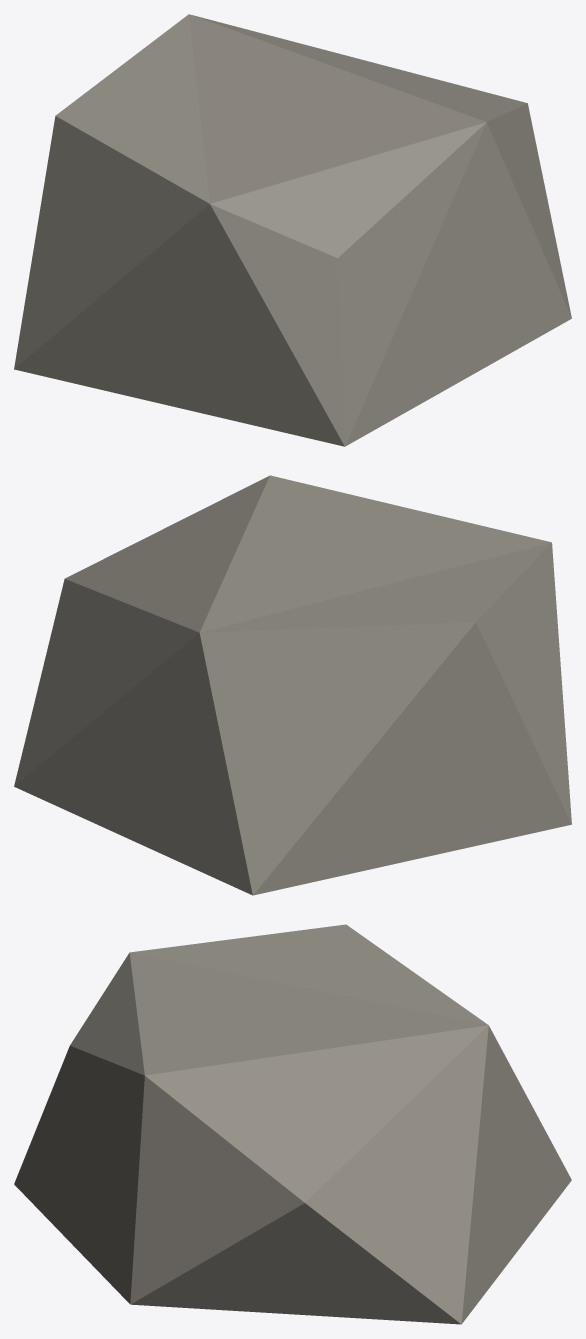
Rendered from Rock_12.fbx.
3 renders of one model, top to bottom at view 1: azimuth 30°, elevation 25°; view 2: azimuth 150°, elevation 25°; view 3: azimuth 270°, elevation 25°, orthographic. The views are drawn at different scales.
Parts seen in each view (by area): view 1: Rock_12; view 2: Rock_12; view 3: Rock_12.
Boxes of the visible parts, box(x1,y1,x2,y2) form: Rock_12: box(14, 14, 571, 446); Rock_12: box(14, 475, 571, 895); Rock_12: box(14, 924, 571, 1324).
Size of the model in its own units: 59.31 by 28.85 by 59.4.
